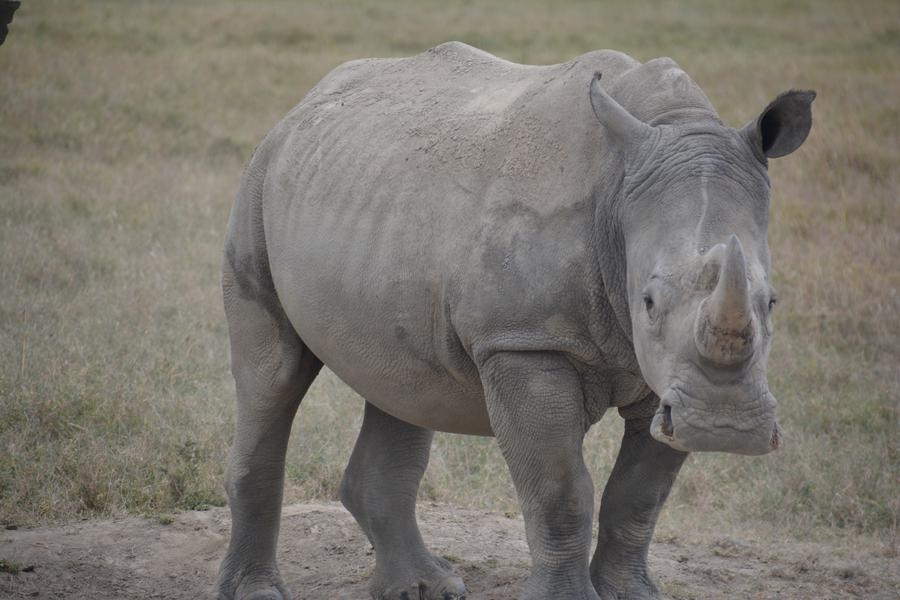rhino: (242, 49, 802, 522)
